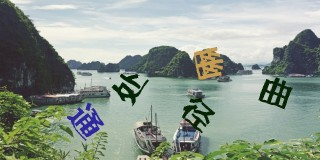处: (112, 73, 149, 106)
幽: (193, 47, 223, 80)
径: (182, 97, 216, 133)
曲: (258, 77, 293, 109)
通: (67, 102, 104, 141)
